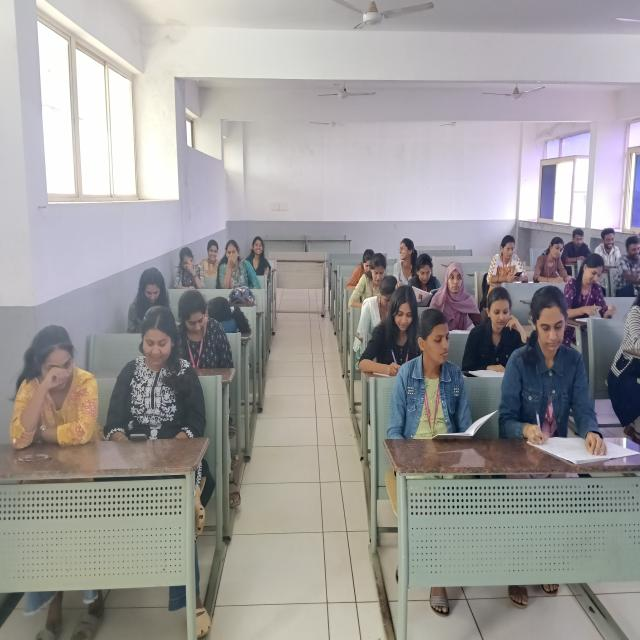Reading: (388, 306, 486, 442), (463, 287, 525, 381), (407, 251, 445, 303)
Using Phone: (110, 304, 204, 450), (173, 288, 234, 369), (128, 266, 173, 324), (486, 230, 530, 288), (560, 226, 596, 264)
Writing: (502, 280, 633, 495), (358, 285, 426, 383), (530, 235, 575, 283)
